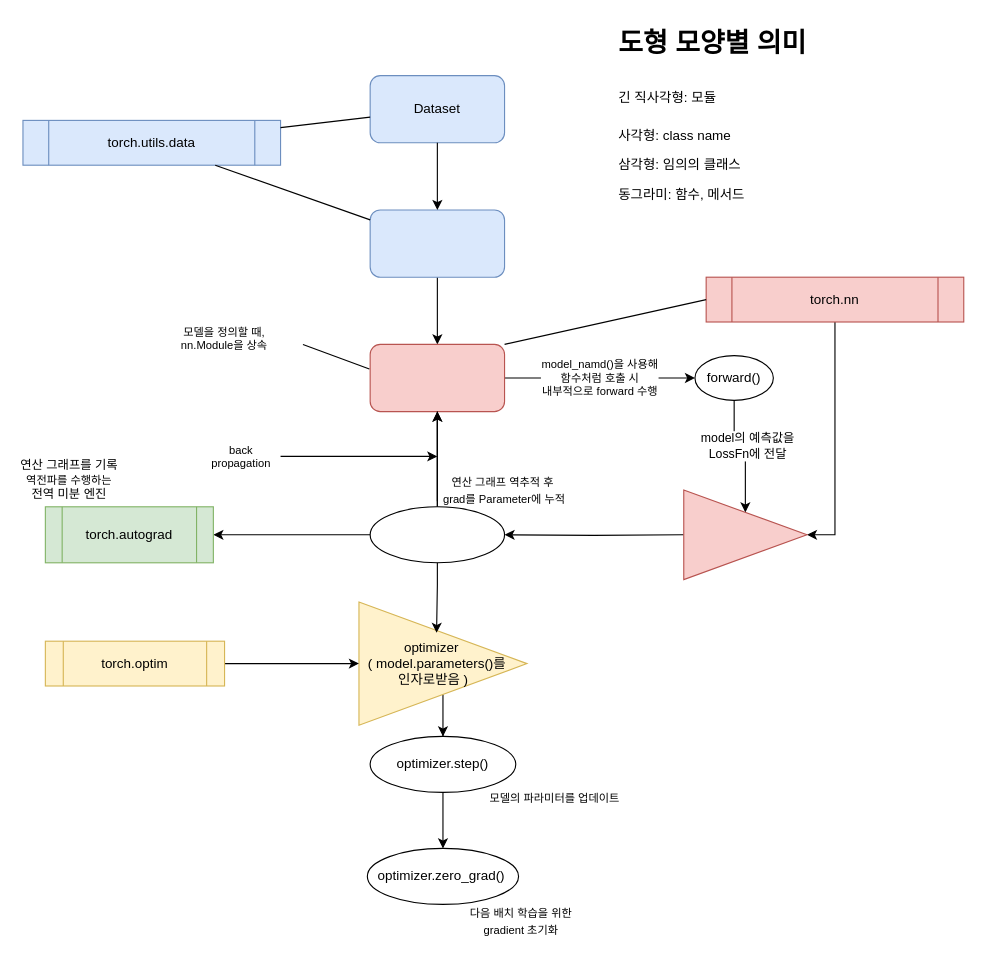
Some shapes in this 983 by 956 pixel diagram are drawn without their labels. The shapes that lost their labels are listed below. From the top down, each one's box as (x1, y1, x2, y2) in pixels, then its label:
(369, 209, 505, 277): DataLoader
(369, 343, 505, 412): nn.Module
(369, 506, 505, 563): loss.backward()
(683, 489, 807, 580): LossFn
